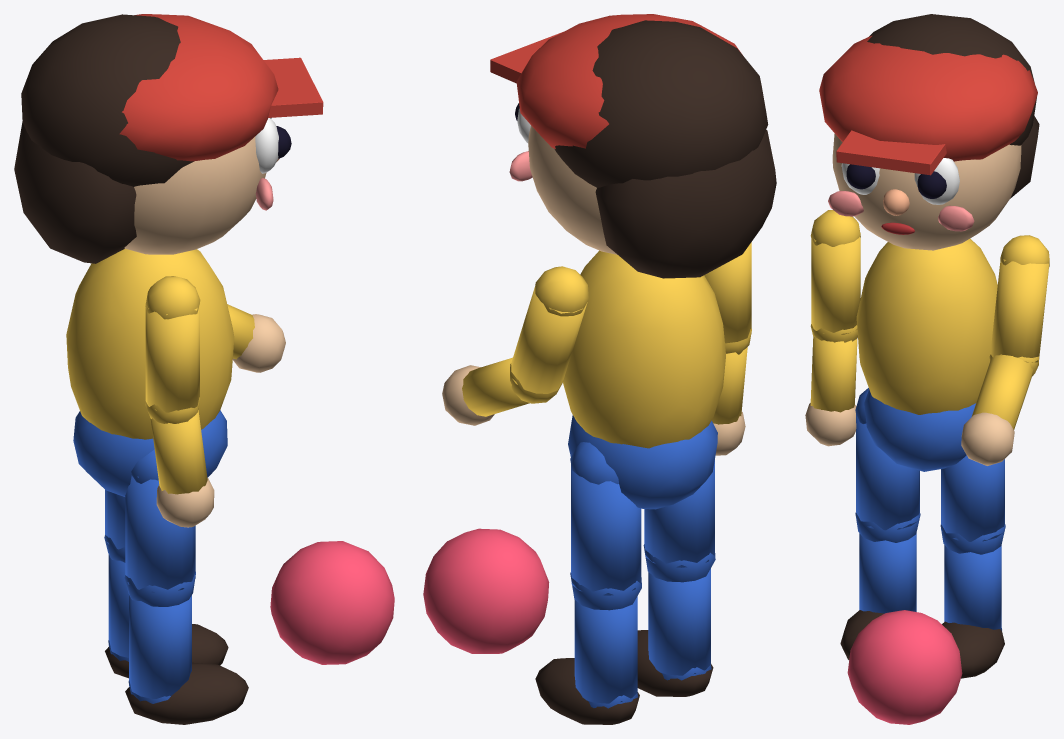
File: kluk.glb
The picture shows the model from 3 angles, left to right: view 1: azimuth 30°, elevation 25°; view 2: azimuth 150°, elevation 25°; view 3: azimuth 270°, elevation 25°; orthographic projection. The views are drawn at different scales.
Visible parts, largest first — view 1: Sphere, Sphere.011, Sphere.013, Sphere.032, Sphere.012, Sphere.002, Cylinder.004, Cylinder.005, Cylinder, Sphere.001, Sphere.026, Cylinder.001 (+12 smaller); view 2: Sphere, Sphere.011, Sphere.012, Sphere.032, Sphere.013, Cylinder.006, Sphere.001, Cylinder.007, Cylinder.005, Sphere.002, Cylinder.002, Cylinder.004 (+13 smaller); view 3: Sphere, Sphere.013, Sphere.032, Sphere.002, Sphere.001, Sphere.011, Cylinder.002, Cylinder.004, Cylinder.006, Cylinder.007, Cylinder, Cylinder.005 (+19 smaller).
Part boxes in pixels (x1=…): Sphere: x1=66, y1=248, x2=234, y2=439; Sphere.011: x1=21, y1=14, x2=193, y2=186; Sphere.013: x1=119, y1=14, x2=278, y2=161; Sphere.032: x1=270, y1=541, x2=394, y2=664; Sphere.012: x1=14, y1=121, x2=136, y2=263; Sphere.002: x1=124, y1=136, x2=266, y2=254; Cylinder.004: x1=125, y1=475, x2=195, y2=592; Cylinder.005: x1=129, y1=595, x2=191, y2=698; Cylinder: x1=145, y1=303, x2=199, y2=412; Sphere.001: x1=73, y1=410, x2=227, y2=496; Sphere.026: x1=125, y1=662, x2=248, y2=724; Cylinder.001: x1=150, y1=410, x2=207, y2=494; Sphere: x1=563, y1=250, x2=725, y2=448; Sphere.011: x1=554, y1=20, x2=768, y2=187; Sphere.012: x1=595, y1=130, x2=776, y2=278; Sphere.032: x1=423, y1=528, x2=549, y2=653; Sphere.013: x1=516, y1=14, x2=742, y2=148; Cylinder.006: x1=571, y1=465, x2=641, y2=595; Sphere.001: x1=568, y1=415, x2=717, y2=509; Cylinder.007: x1=574, y1=596, x2=637, y2=703; Cylinder.005: x1=648, y1=568, x2=710, y2=675; Sphere.002: x1=528, y1=125, x2=617, y2=254; Cylinder.002: x1=511, y1=286, x2=587, y2=393; Cylinder.004: x1=644, y1=460, x2=714, y2=567; Sphere: x1=856, y1=238, x2=997, y2=414; Sphere.013: x1=819, y1=35, x2=1037, y2=161; Sphere.032: x1=847, y1=610, x2=962, y2=724; Sphere.002: x1=832, y1=133, x2=1021, y2=250; Sphere.001: x1=864, y1=389, x2=975, y2=471; Sphere.011: x1=867, y1=14, x2=1036, y2=145; Cylinder.002: x1=990, y1=259, x2=1048, y2=362; Cylinder.004: x1=856, y1=415, x2=919, y2=530; Cylinder.006: x1=941, y1=455, x2=1004, y2=541; Cylinder.007: x1=944, y1=545, x2=1001, y2=629; Cylinder: x1=811, y1=233, x2=860, y2=334; Cylinder.005: x1=859, y1=533, x2=916, y2=613.
Size of the model in its own units: 0.5666 by 1.07 by 0.3829.
